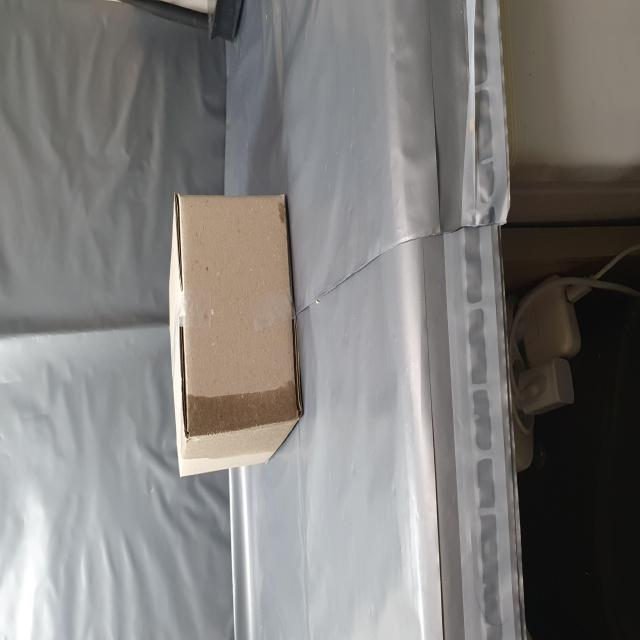wet: (110, 315, 146, 543)
